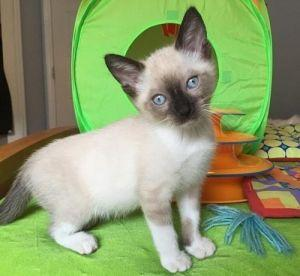siamese: (102, 6, 229, 139)
